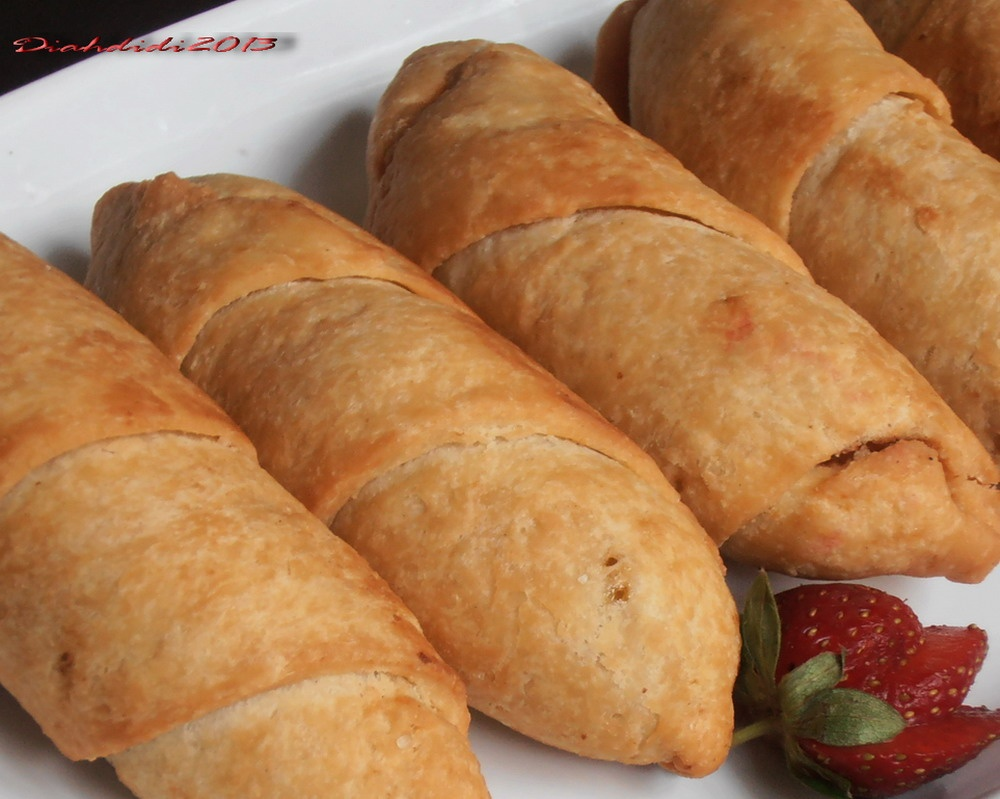pisang_molen: (91, 171, 741, 777), (365, 36, 998, 585)
